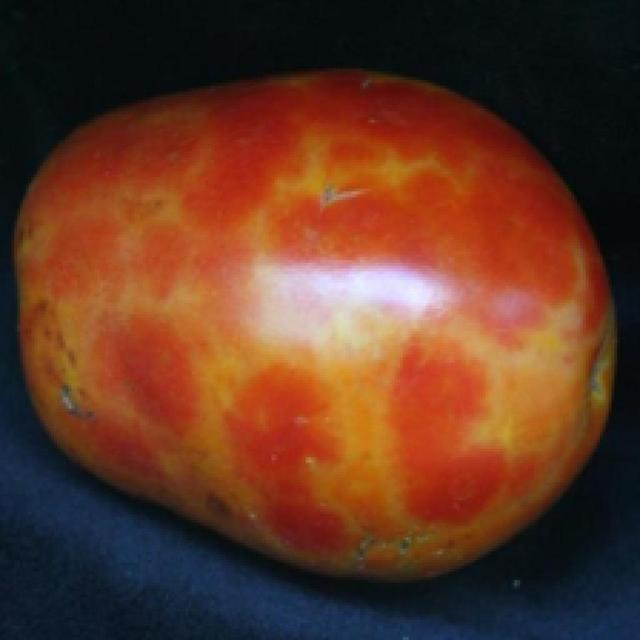Spotted wilt Virus Fruit: (11, 43, 413, 388)
